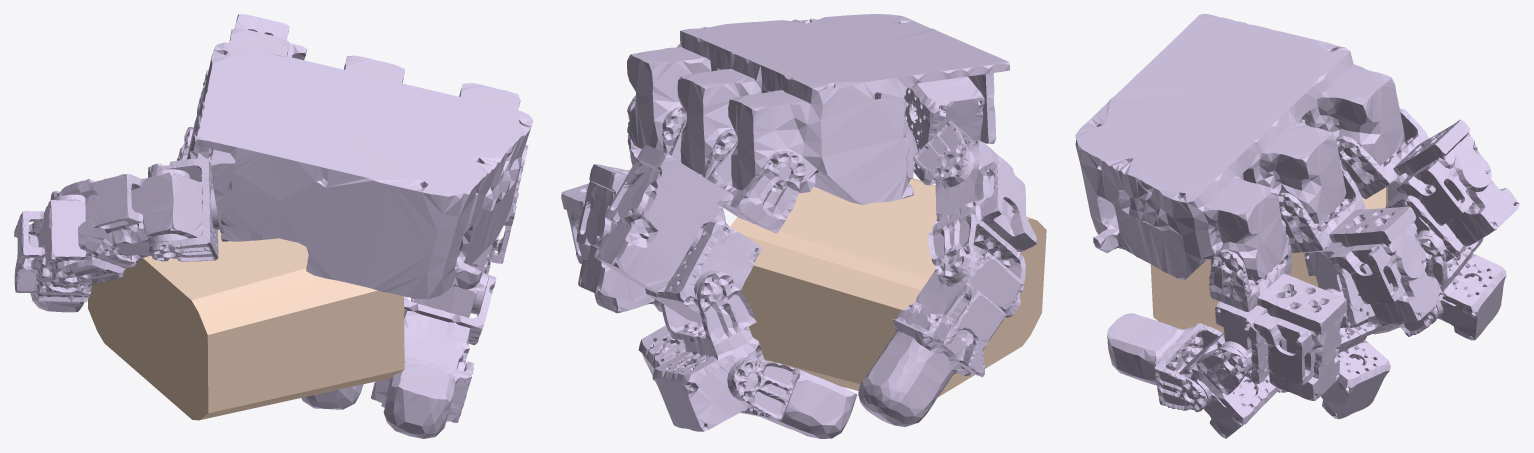
3 views of the same model, side by side, from view 1: azimuth 30°, elevation 25°; view 2: azimuth 150°, elevation 25°; view 3: azimuth 270°, elevation 25° (orthographic). The views are drawn at different scales.
Parts seen in each view (by area): view 1: LEAP_hand, world; view 2: LEAP_hand, world; view 3: LEAP_hand, world.
Part boxes in pixels (x1,y1,x2,y2): LEAP_hand: (14,14,532,438); world: (88,230,404,420); LEAP_hand: (561,14,1037,438); world: (730,178,1046,397); LEAP_hand: (1075,14,1519,438); world: (1150,186,1388,332).
Bounding box in the file's own units: 0.2027 × 0.1527 × 0.1897.
